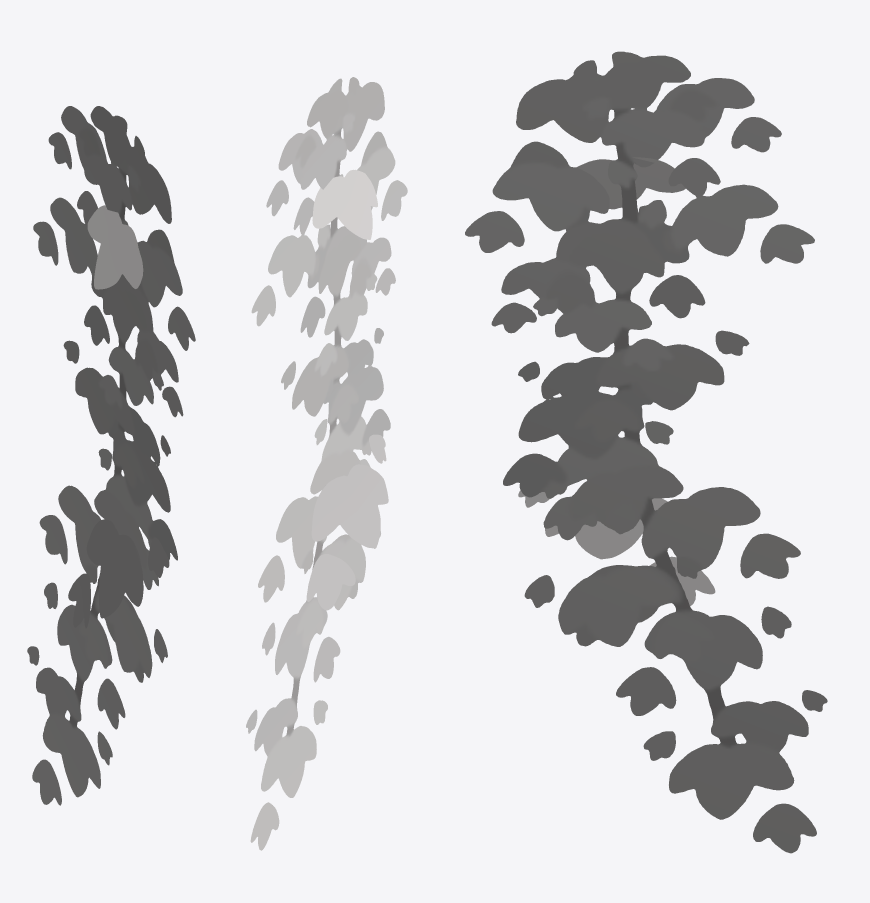
Rendered from VinePiece2.fbx.
The picture shows the model from 3 angles, left to right: view 1: azimuth 30°, elevation 25°; view 2: azimuth 150°, elevation 25°; view 3: azimuth 270°, elevation 25°; orthographic projection. The views are drawn at different scales.
Parts seen in each view (by area): view 1: Plane.758; view 2: Plane.758; view 3: Plane.758.
Part boxes in pixels (x1=…): Plane.758: x1=27, y1=106, x2=195, y2=805; Plane.758: x1=246, y1=77, x2=407, y2=850; Plane.758: x1=465, y1=51, x2=827, y2=853.
Size of the model in its own units: 16.74 by 251 by 107.
